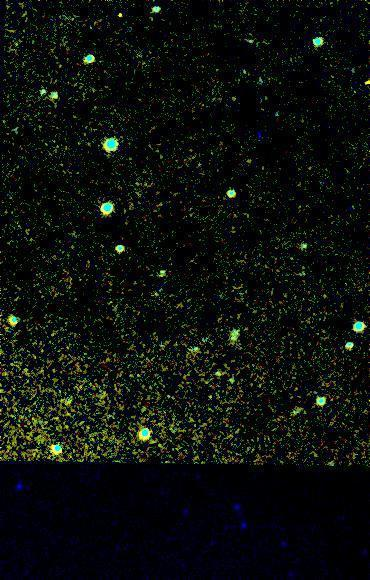star: (105, 1, 135, 31)
